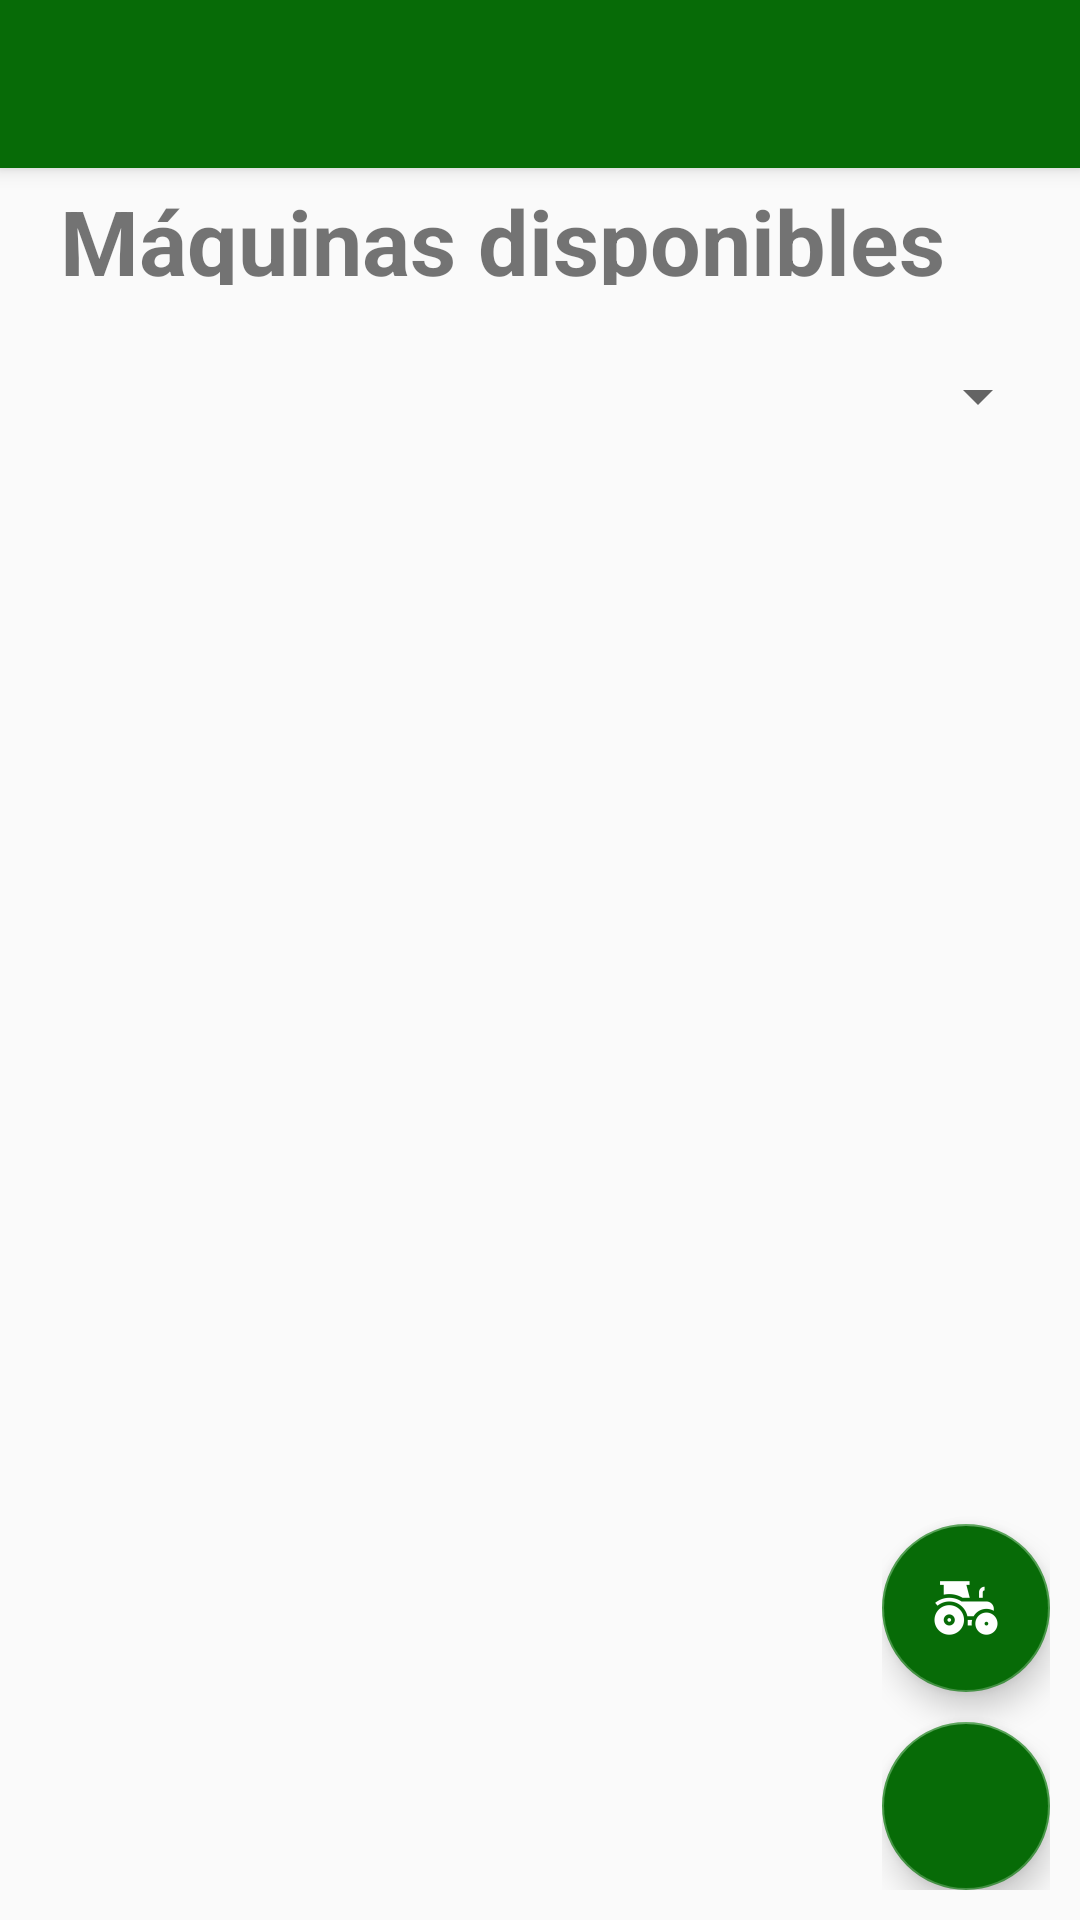

Point at icon controls on the screen. Image size 1080 × 1920, points as [x,y].
tractor: [966,1608]
